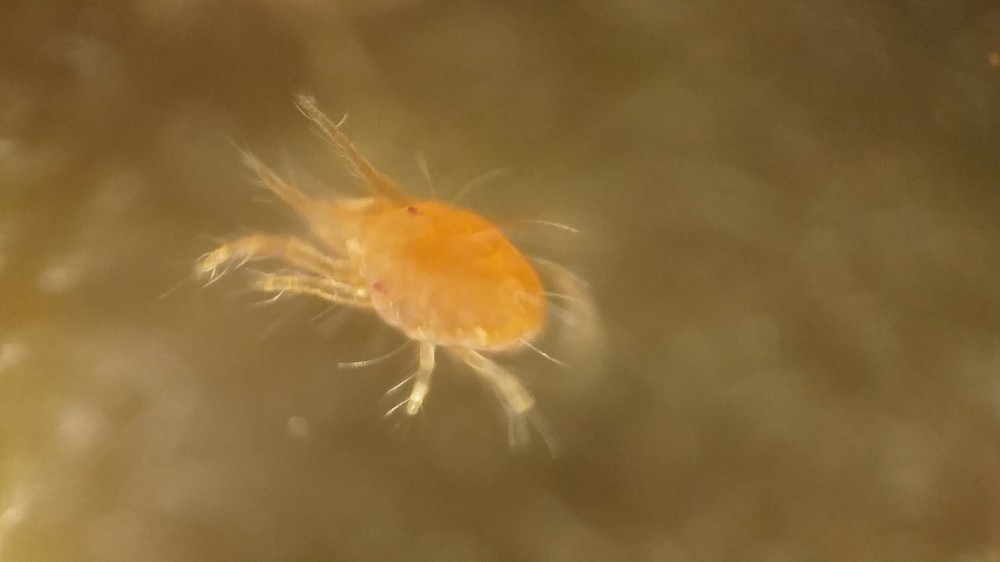Aracnido Rojo: (166, 86, 639, 475)
